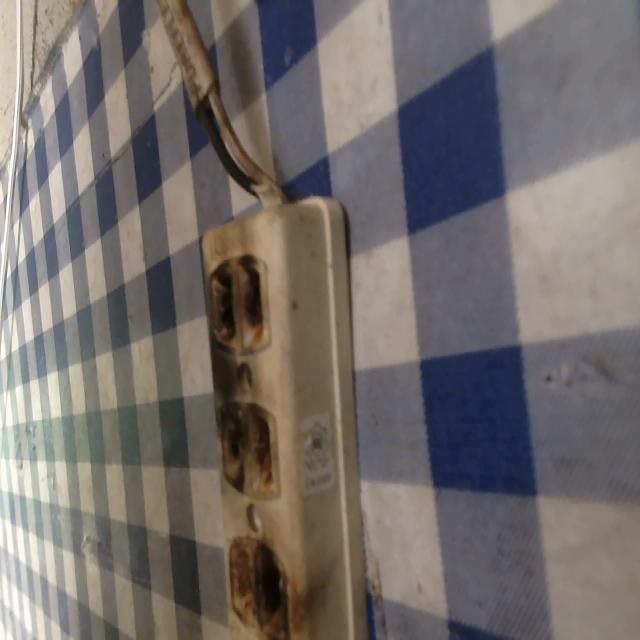-: (226, 532, 294, 639), (214, 399, 284, 501), (205, 250, 271, 350)
